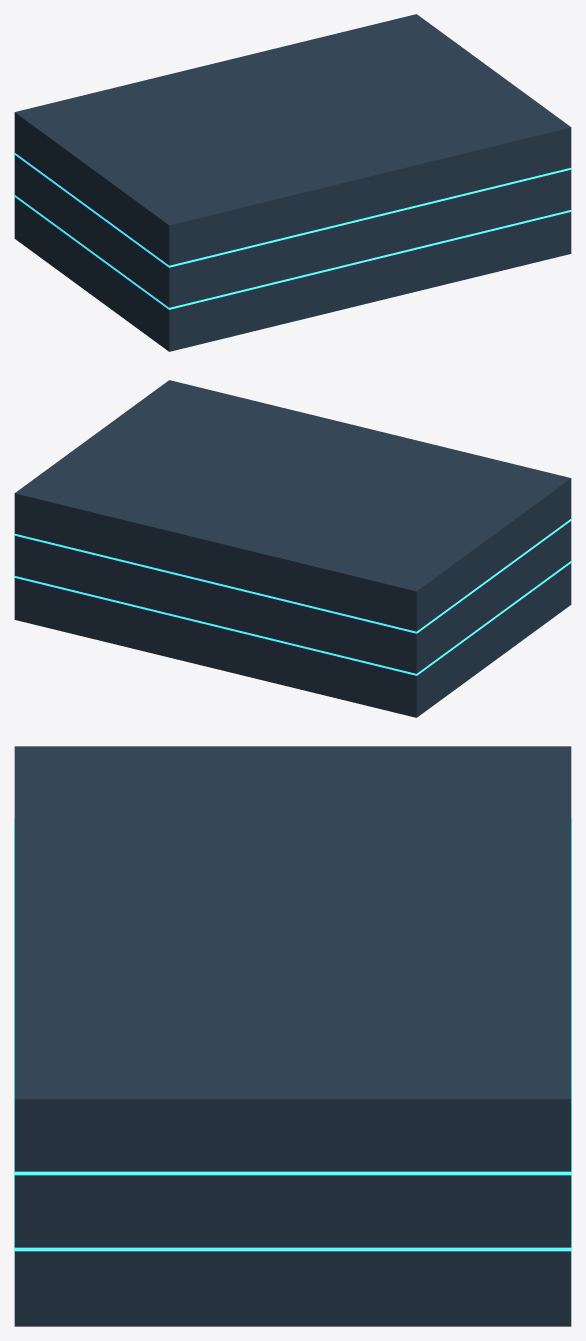
File: vault_archive.glb
The picture shows the model from 3 angles, top to bottom: view 1: azimuth 30°, elevation 25°; view 2: azimuth 150°, elevation 25°; view 3: azimuth 270°, elevation 25°; orthographic projection. The views are drawn at different scales.
Visible parts, largest first — view 1: vault_archive; view 2: vault_archive; view 3: vault_archive.
Boxes of the visible parts, <box> form: vault_archive: <box>14,14,571,351</box>; vault_archive: <box>14,380,571,717</box>; vault_archive: <box>14,746,571,1326</box>.
Bounding box in the file's own units: 55.01 × 16.5 × 36.67.
